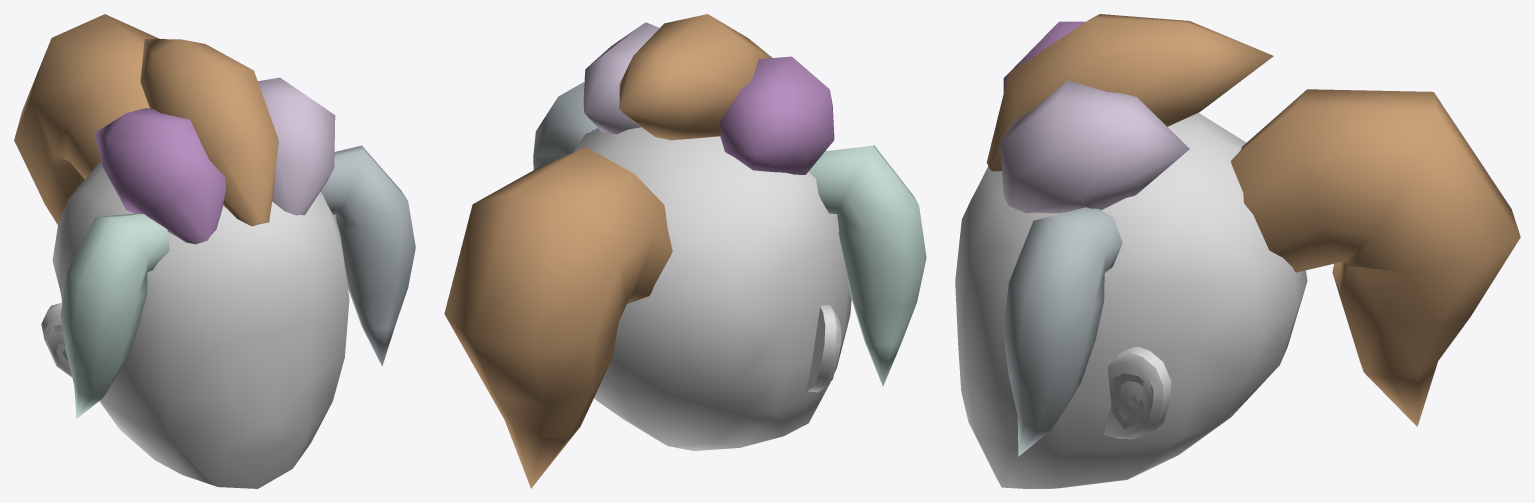
The model's file is Hair2.glb.
The picture shows the model from 3 angles, left to right: view 1: azimuth 30°, elevation 25°; view 2: azimuth 150°, elevation 25°; view 3: azimuth 270°, elevation 25°; orthographic projection. The views are drawn at different scales.
Visible parts, largest first — view 1: Head; view 2: Head; view 3: Head.
Part boxes in pixels (<box>): Head: <box>14,14,415,488</box>; Head: <box>444,14,926,488</box>; Head: <box>955,14,1520,488</box>.
Bounding box in the file's own units: 0.7175 × 0.7766 × 0.864.
